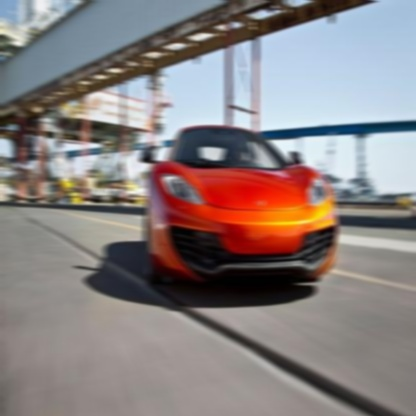Vehicle: (140, 123, 338, 292)
